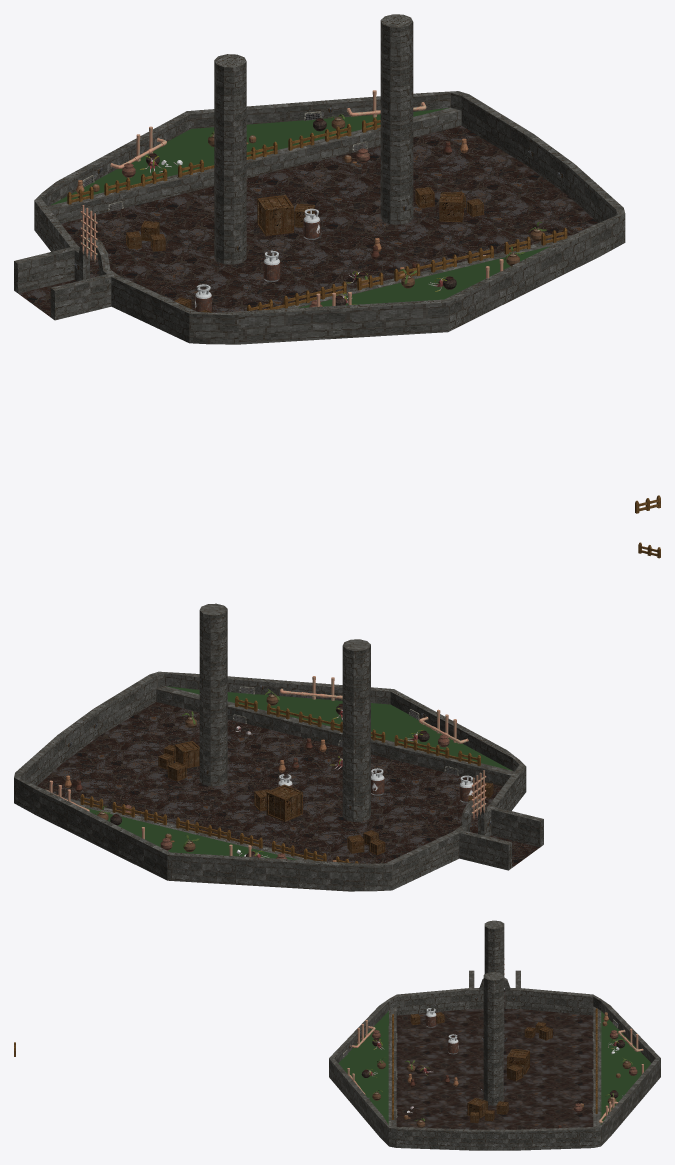
Rendered from room_base_O_garden_40x40.glb.
3 renders of one model, top to bottom at view 1: azimuth 30°, elevation 25°; view 2: azimuth 150°, elevation 25°; view 3: azimuth 270°, elevation 25°, orthographic. The views are drawn at different scales.
Visible parts, largest first — view 1: Plane.001, floor, Cylinder.042, Cylinder.043, Cube, Cube.002; view 2: Plane.001, floor, Cylinder.043, Cylinder.042, Cube.002, Cube; view 3: Plane.001, floor, Cylinder.042, Cylinder.043.
Part boxes in pixels (x1=…): Plane.001: x1=14, y1=91, x2=625, y2=344; floor: x1=18, y1=125, x2=597, y2=316; Cylinder.042: x1=380, y1=14, x2=413, y2=224; Cylinder.043: x1=214, y1=54, x2=246, y2=264; Cube: x1=247, y1=227, x2=567, y2=310; Cube.002: x1=67, y1=117, x2=380, y2=204; Plane.001: x1=14, y1=671, x2=543, y2=891; floor: x1=37, y1=702, x2=539, y2=867; Cylinder.043: x1=342, y1=639, x2=370, y2=821; Cylinder.042: x1=199, y1=603, x2=227, y2=786; Cube.002: x1=80, y1=794, x2=358, y2=863; Cube: x1=235, y1=696, x2=480, y2=765; Plane.001: x1=329, y1=970, x2=660, y2=1150; floor: x1=396, y1=989, x2=593, y2=1129; Cylinder.042: x1=483, y1=972, x2=503, y2=1105; Cylinder.043: x1=484, y1=920, x2=504, y2=1051.
Bounding box in the file's own units: 36.74 × 13.41 × 62.34.
Materials: 19 (19 with a texture image).
